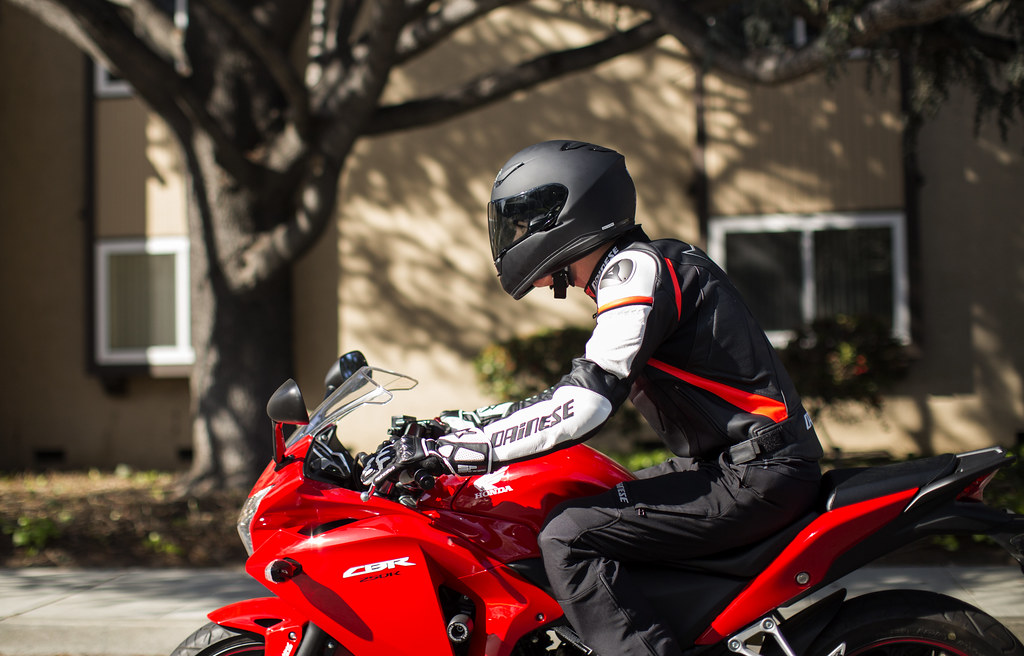helmet: (476, 139, 645, 271)
